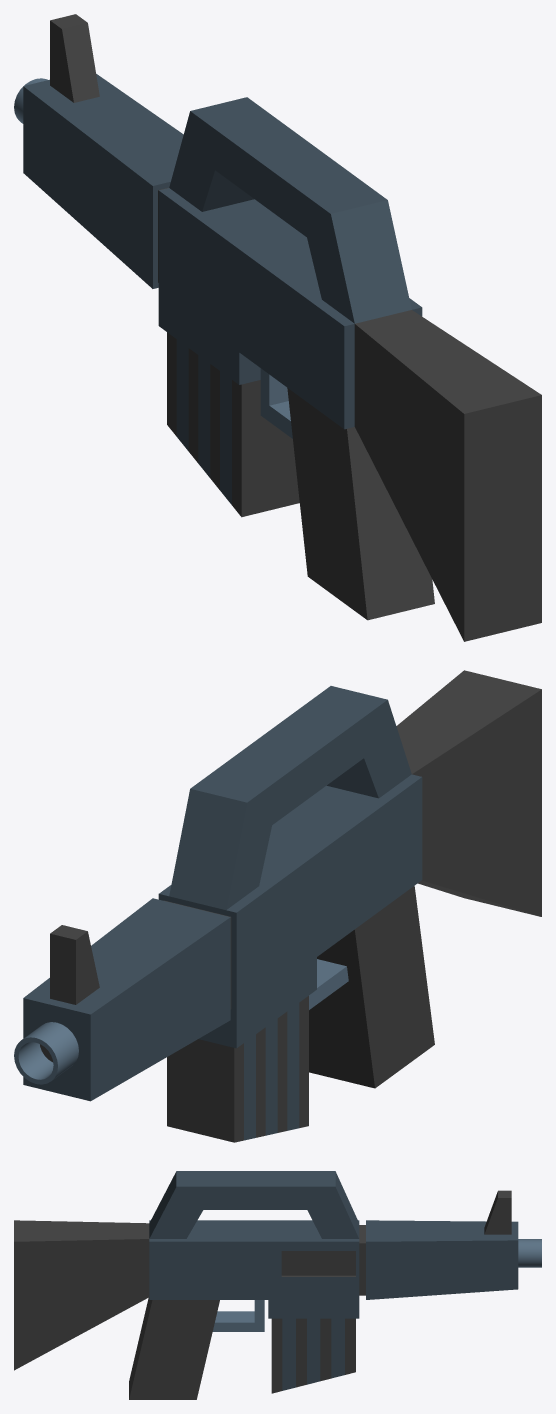
Rendered from machinegun.obj.
3 renders of one model, top to bottom at view 1: azimuth 30°, elevation 25°; view 2: azimuth 150°, elevation 25°; view 3: azimuth 270°, elevation 25°, orthographic. The views are drawn at different scales.
Parts seen in each view (by area): view 1: machinegun, Group; view 2: machinegun, Group; view 3: machinegun, Group.
Part boxes in pixels (x1,y1,x2,y2): machinegun: (14,14,541,641); Group: (167,332,299,517); machinegun: (14,670,541,1101); Group: (167,996,308,1142); machinegun: (14,1171,541,1399); Group: (271,1318,355,1393).
Bounding box in the file's own units: 0.0574 × 0.2641 × 0.5972.
